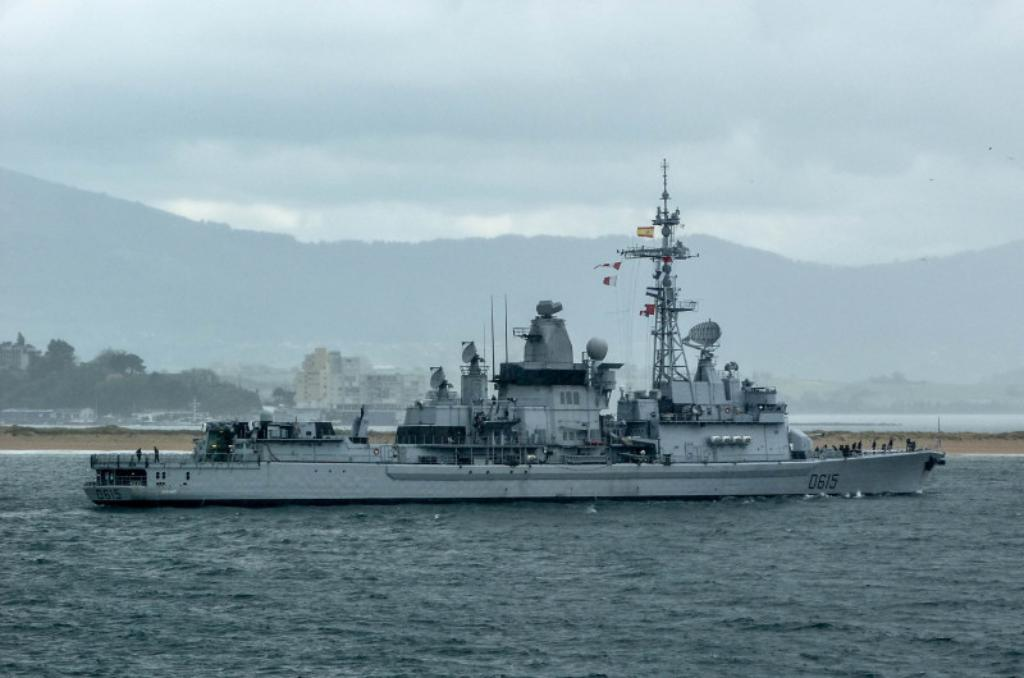Warship: (81, 155, 947, 511)
